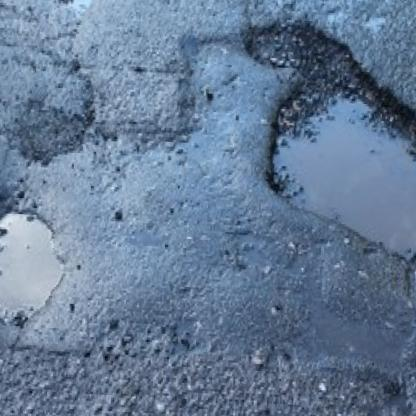pothole: (231, 13, 416, 265), (0, 200, 70, 334)
